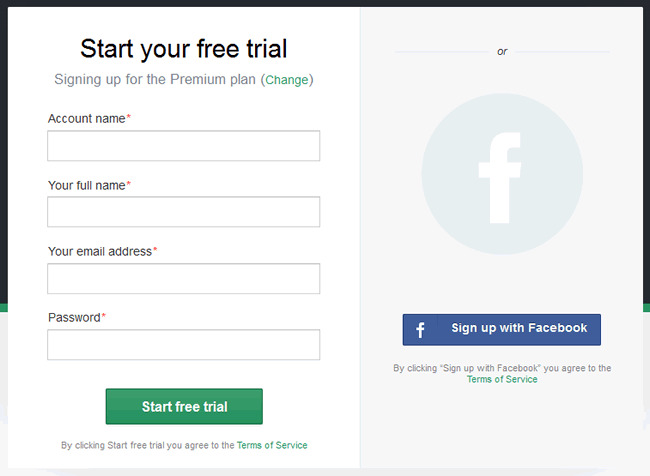button: (401, 313, 602, 347), (105, 387, 264, 425)
field: (46, 130, 322, 163), (45, 328, 321, 361), (46, 195, 321, 228), (45, 261, 320, 294)
